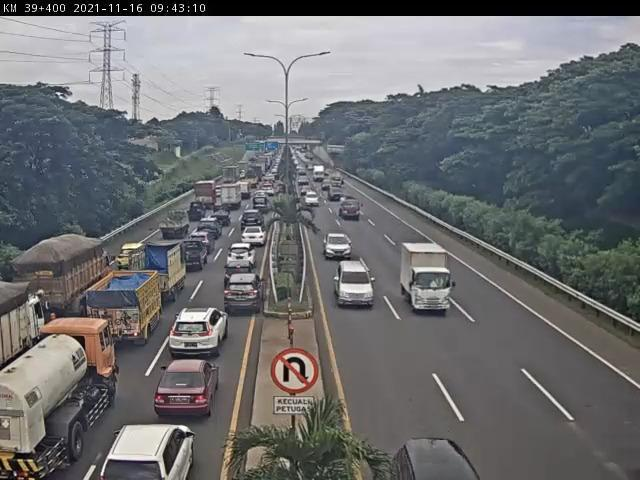car: (99, 425, 195, 480), (387, 436, 482, 480), (157, 359, 221, 419), (172, 308, 230, 358), (335, 260, 375, 307), (227, 275, 268, 316), (228, 246, 259, 273), (327, 235, 356, 260), (116, 246, 142, 268), (242, 230, 269, 249), (197, 220, 223, 239), (240, 214, 264, 233), (210, 209, 230, 230), (192, 235, 215, 253), (190, 204, 209, 223), (251, 201, 268, 217), (305, 192, 319, 208), (331, 186, 344, 201), (255, 194, 269, 205), (261, 188, 274, 199), (300, 177, 311, 187), (302, 187, 313, 196)
truck: (1, 317, 117, 480), (13, 237, 111, 319), (90, 271, 165, 348), (1, 284, 45, 374), (400, 243, 454, 316), (130, 241, 189, 301), (183, 240, 209, 272), (159, 213, 189, 238), (193, 183, 215, 211), (218, 189, 240, 214), (340, 198, 362, 220), (221, 168, 239, 187), (234, 184, 250, 202), (315, 166, 325, 182)
